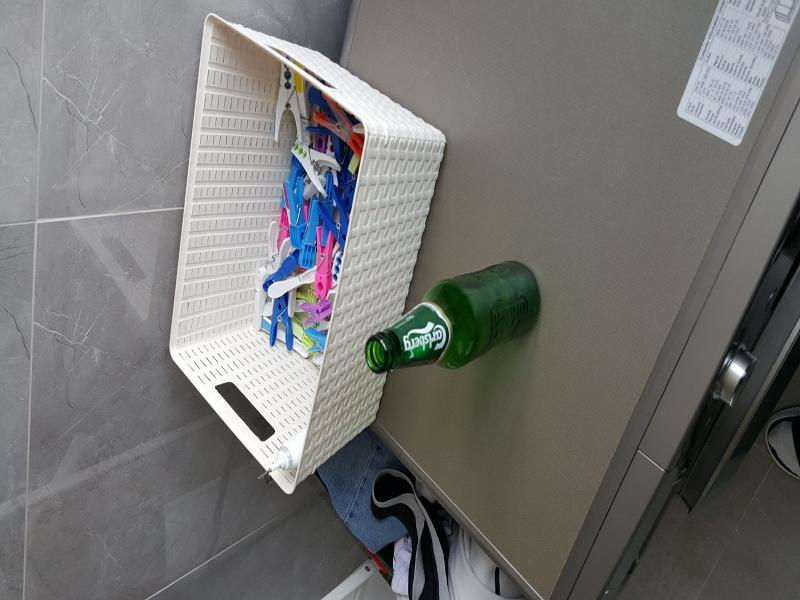Beer: (364, 260, 540, 372)
